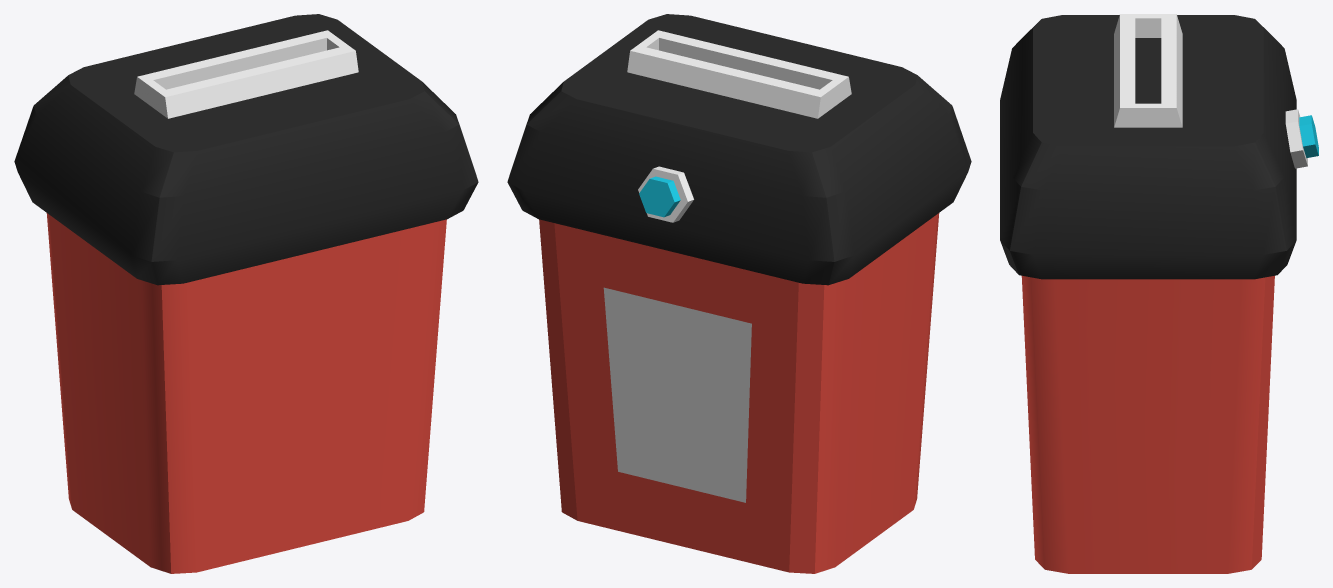
The model's file is shredder.glb.
3 renders of one model, left to right at view 1: azimuth 30°, elevation 25°; view 2: azimuth 150°, elevation 25°; view 3: azimuth 270°, elevation 25°, orthographic.
Visible parts, largest first — view 1: mesh_shredder_01; view 2: mesh_shredder_01; view 3: mesh_shredder_01.
Boxes of the visible parts, bbox=[...] form: mesh_shredder_01: bbox=[14, 14, 478, 573]; mesh_shredder_01: bbox=[507, 14, 971, 573]; mesh_shredder_01: bbox=[1000, 14, 1318, 573].
Size of the model in its own units: 0.1375 by 0.1688 by 0.1092.
Materials: 1 (1 with a texture image).
